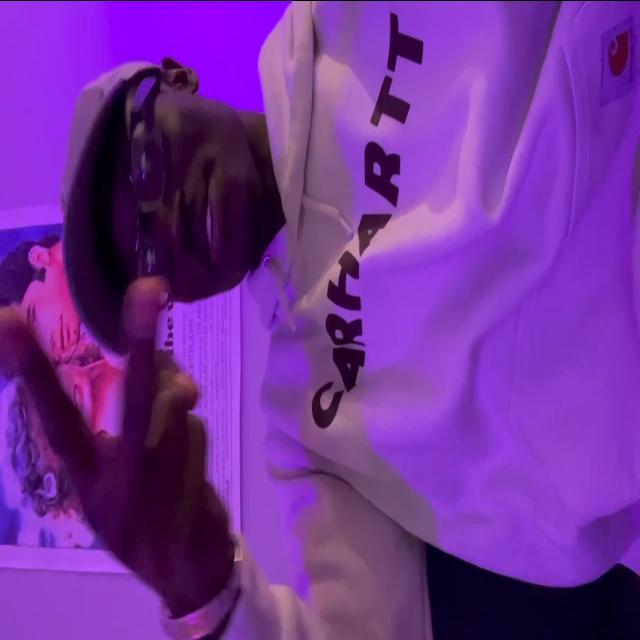Scissors: (0, 277, 236, 615)
